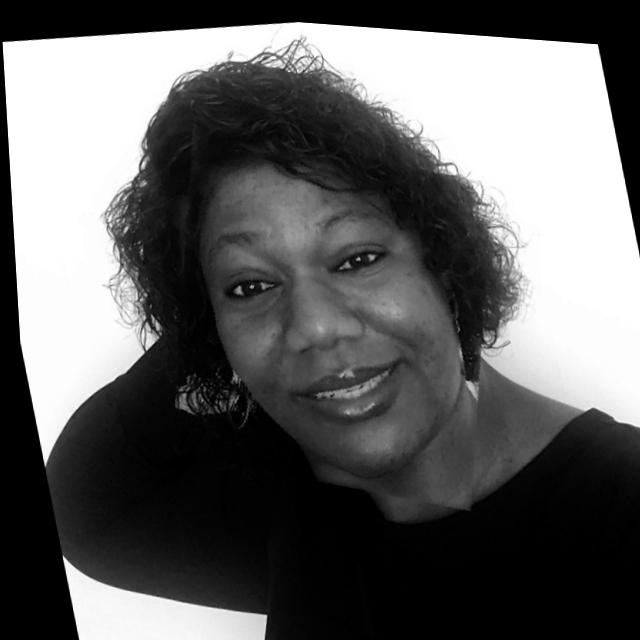happy: (126, 97, 530, 529)
